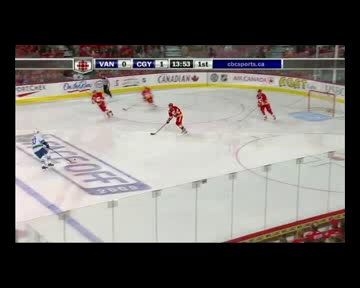normal: (158, 98, 193, 137)
